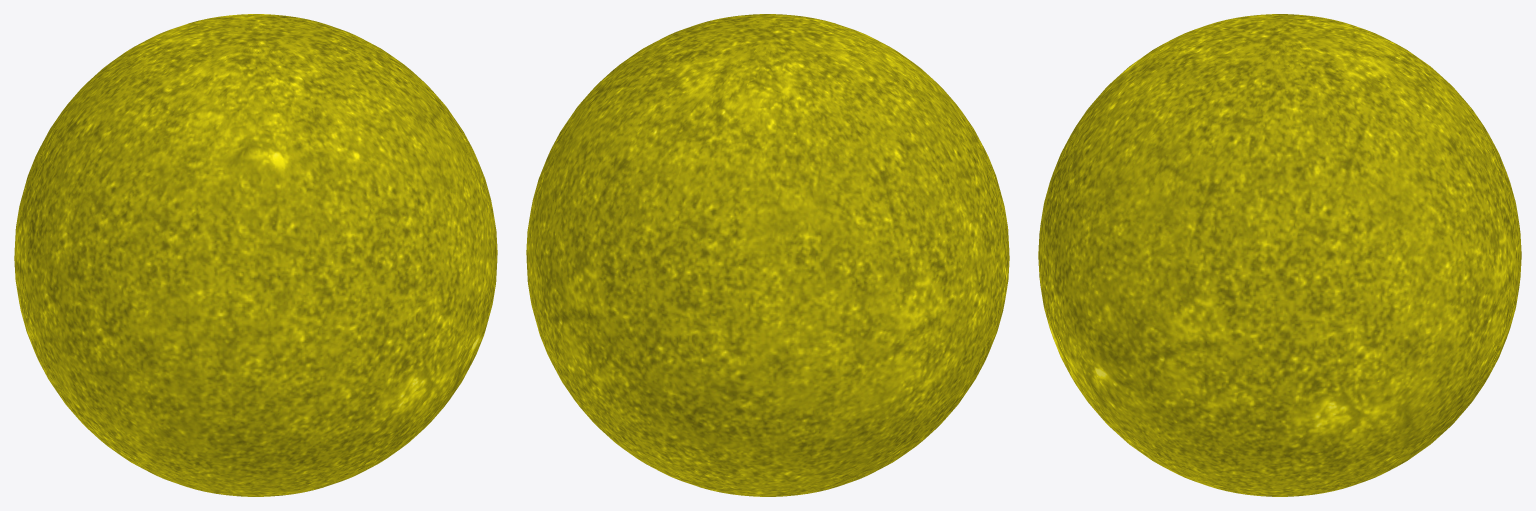
File: scene_yellow_star.glb
The picture shows the model from 3 angles, left to right: view 1: azimuth 30°, elevation 25°; view 2: azimuth 150°, elevation 25°; view 3: azimuth 270°, elevation 25°; orthographic projection.
Visible parts, largest first — view 1: UnstableStarref_2_0; view 2: UnstableStarref_2_0; view 3: UnstableStarref_2_0.
Part boxes in pixels (x1,y1,x2,y2): UnstableStarref_2_0: [14, 14, 497, 496]; UnstableStarref_2_0: [526, 14, 1009, 496]; UnstableStarref_2_0: [1038, 14, 1521, 496].
Size of the model in its own units: 300 by 300 by 300.
2 materials, 1 textured.
